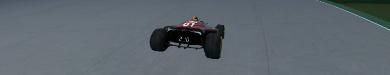Car: (148, 15, 225, 59)
